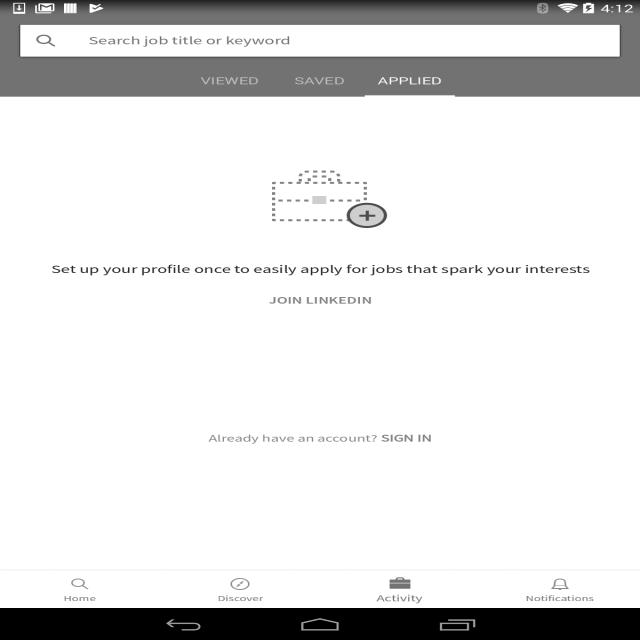Button: (26, 322, 614, 554), (26, 284, 614, 316)
ImageView: (213, 129, 427, 262), (0, 568, 640, 571), (63, 571, 97, 592), (223, 571, 257, 592), (383, 571, 417, 592), (543, 571, 577, 592), (33, 32, 59, 48)
TextView: (71, 24, 620, 56), (26, 262, 614, 276), (525, 593, 594, 607), (378, 74, 442, 87), (200, 74, 259, 87), (294, 74, 345, 87), (217, 593, 263, 607), (61, 592, 98, 608), (380, 593, 420, 607)
